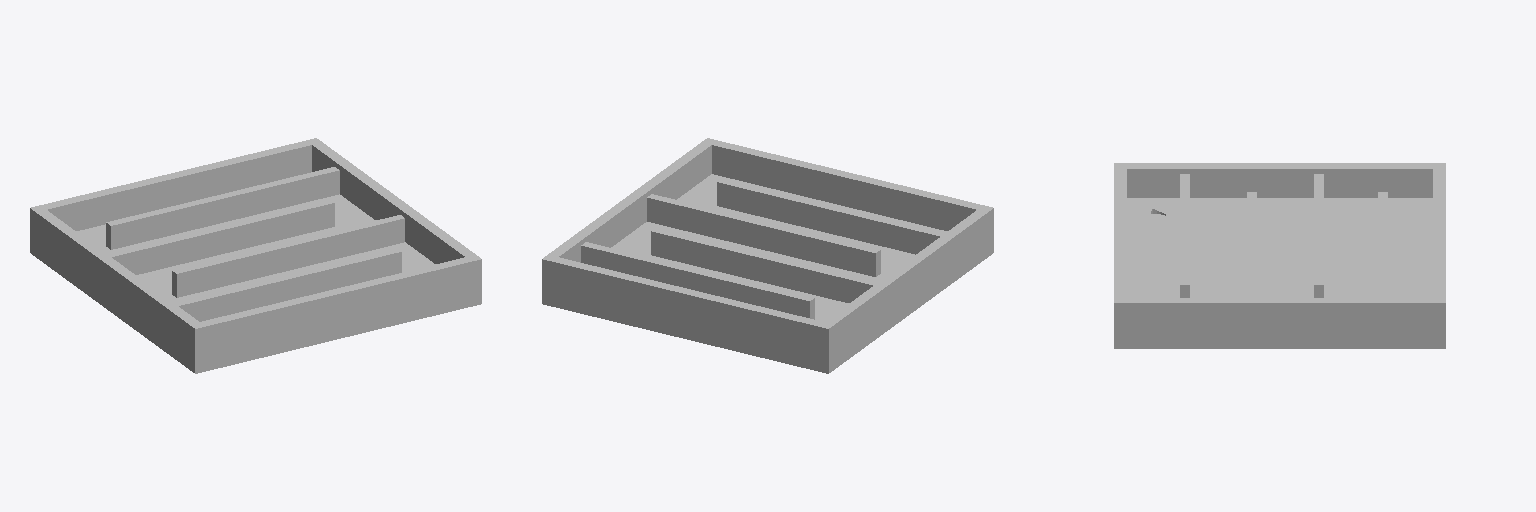
File: Board4Walls.obj
The picture shows the model from 3 angles: view 1: azimuth 30°, elevation 25°; view 2: azimuth 150°, elevation 25°; view 3: azimuth 270°, elevation 25°; orthographic projection.
Parts seen in each view (by area): view 1: Cube_Cube.006; view 2: Cube_Cube.006; view 3: Cube_Cube.006.
Part boxes in pixels (x1,y1,x2,y2): Cube_Cube.006: (30, 138, 481, 373); Cube_Cube.006: (542, 138, 993, 373); Cube_Cube.006: (1114, 163, 1445, 348).
Bounding box in the file's own units: 3 × 0.45 × 3.